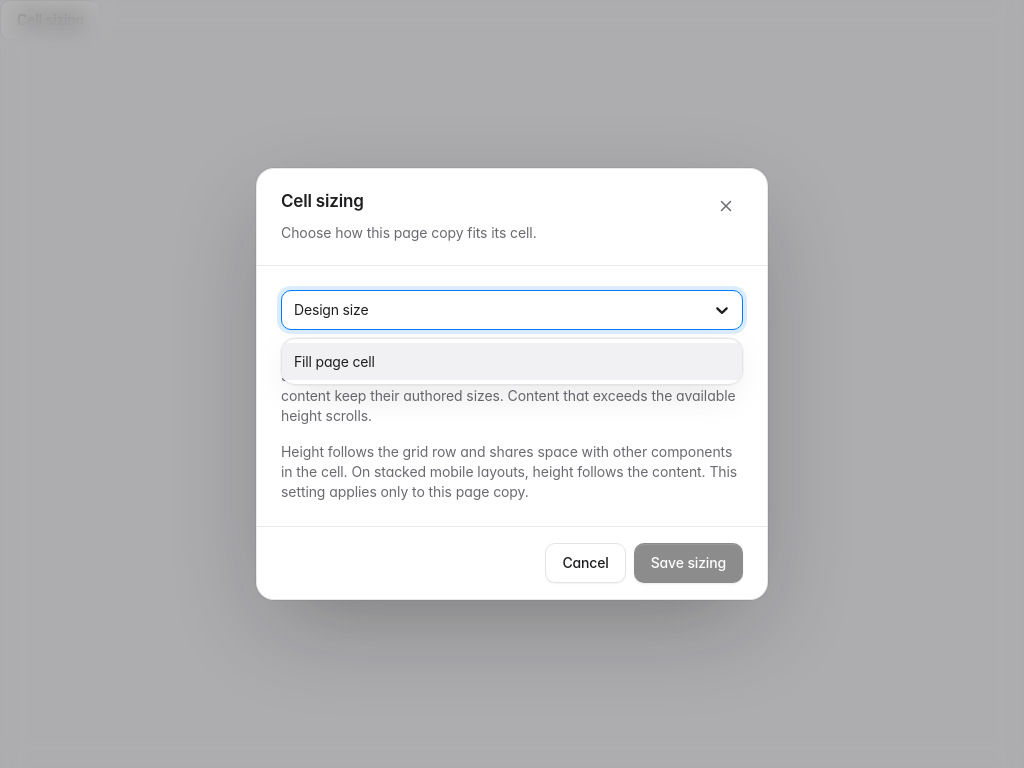
Test: saves fill per placement and discards cancelled drafts
Earlier steps of the test are not shown.
Click the option "Fill page cell".
click(334, 361)  # box [282,343,742,380]
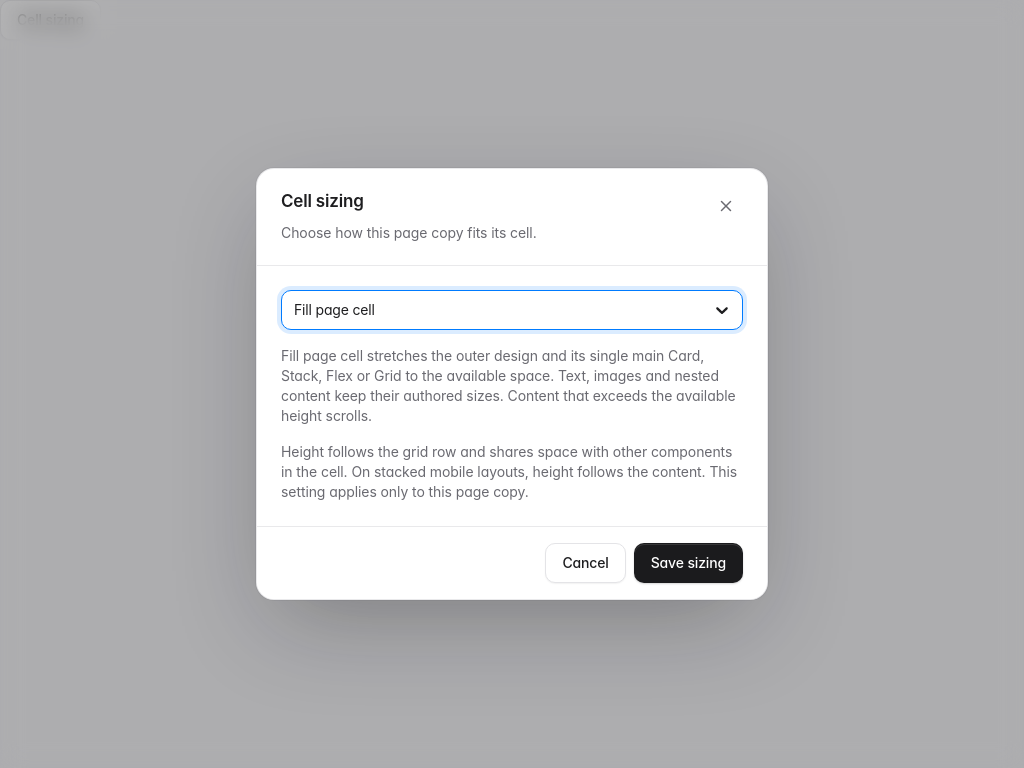
Click the button "Cancel".
click(586, 563)  # box [546,543,626,583]
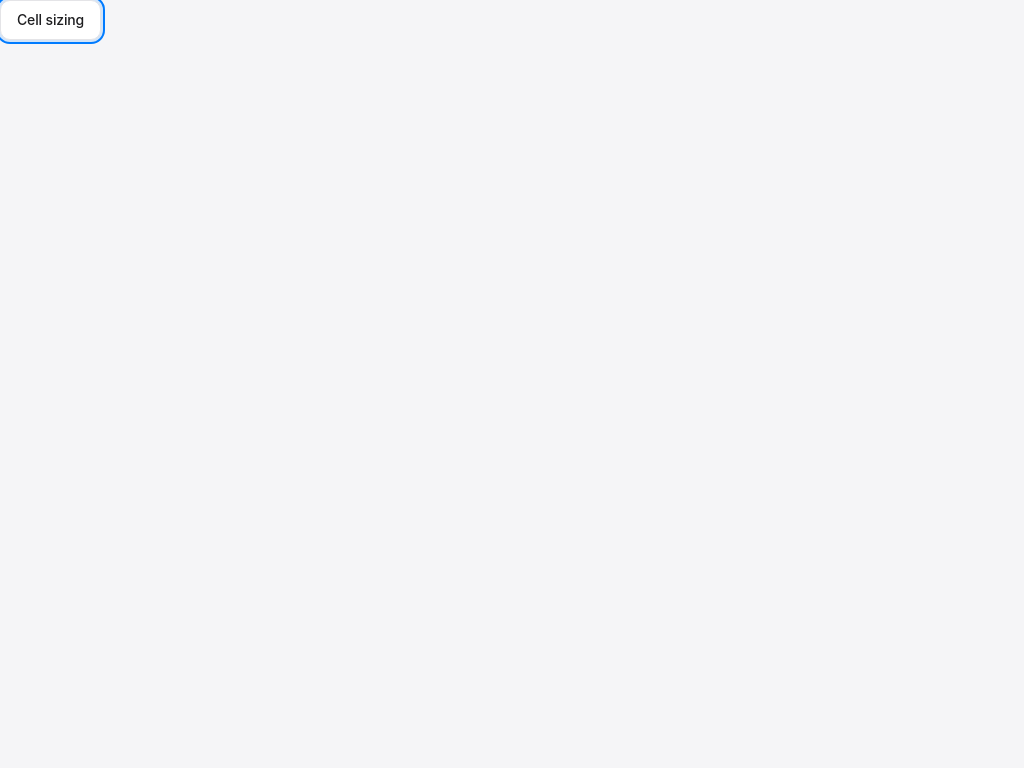
Click the button "Cell sizing".
click(51, 20)  # box [0,0,101,40]
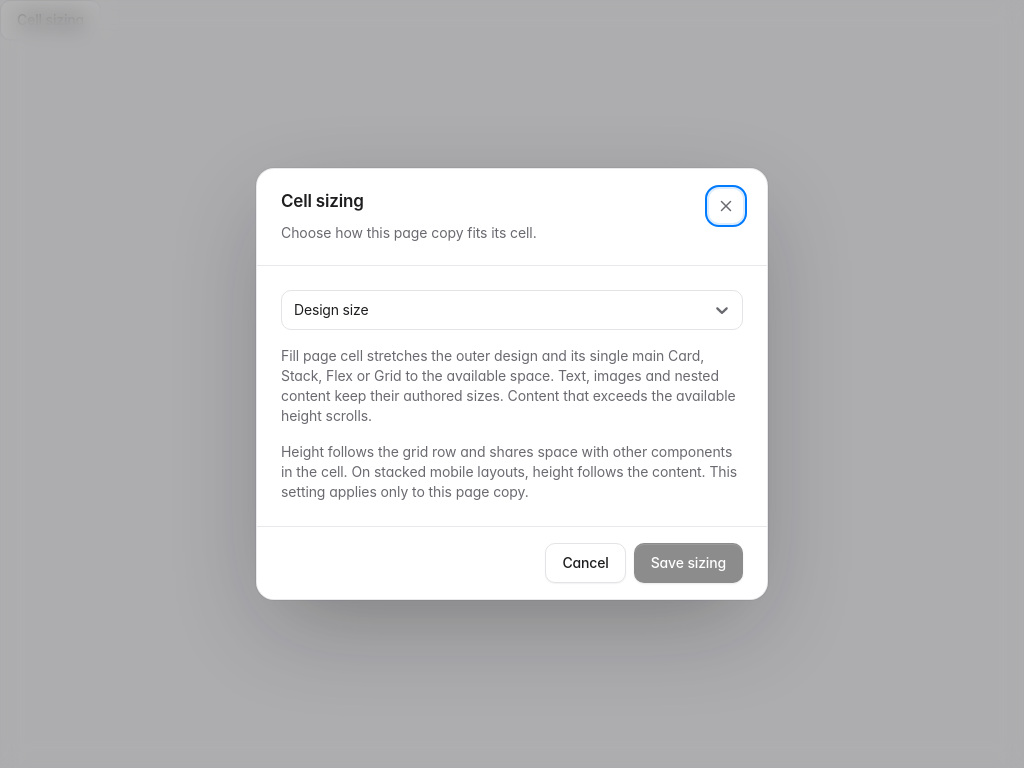
Check: the text "Design size" is shown, box [294,301,368,318]
Click the dropdown named "Visual component size".
click(296, 310)  # box [294,300,298,320]
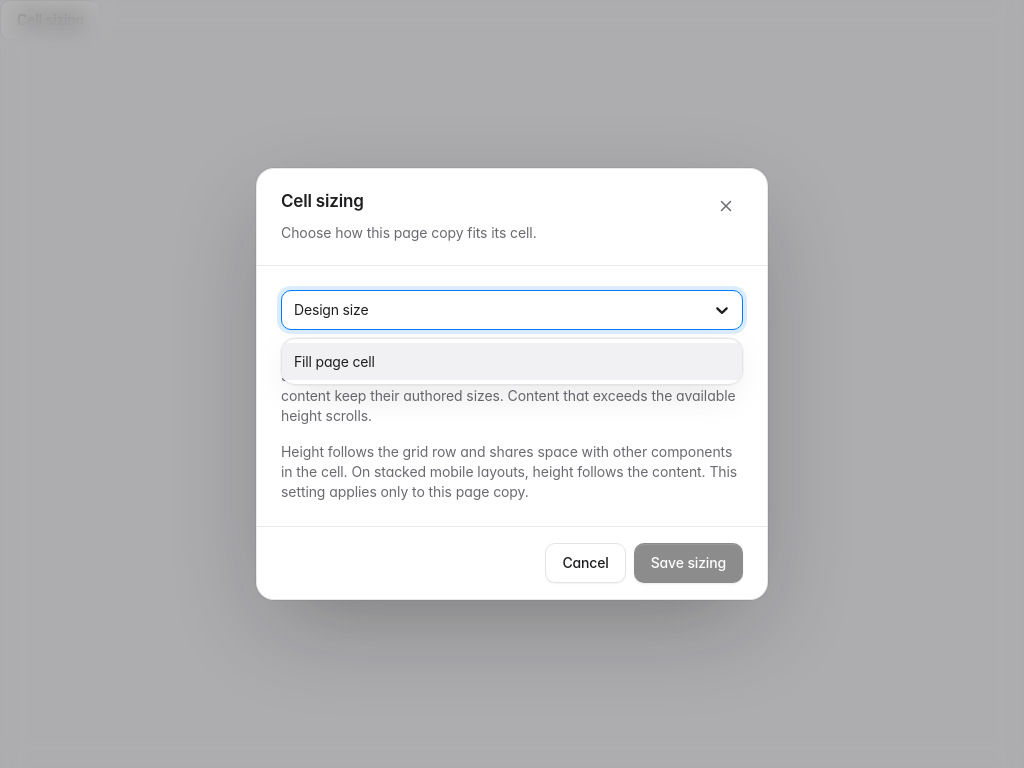
Click the option "Fill page cell".
click(334, 361)  # box [282,343,742,380]
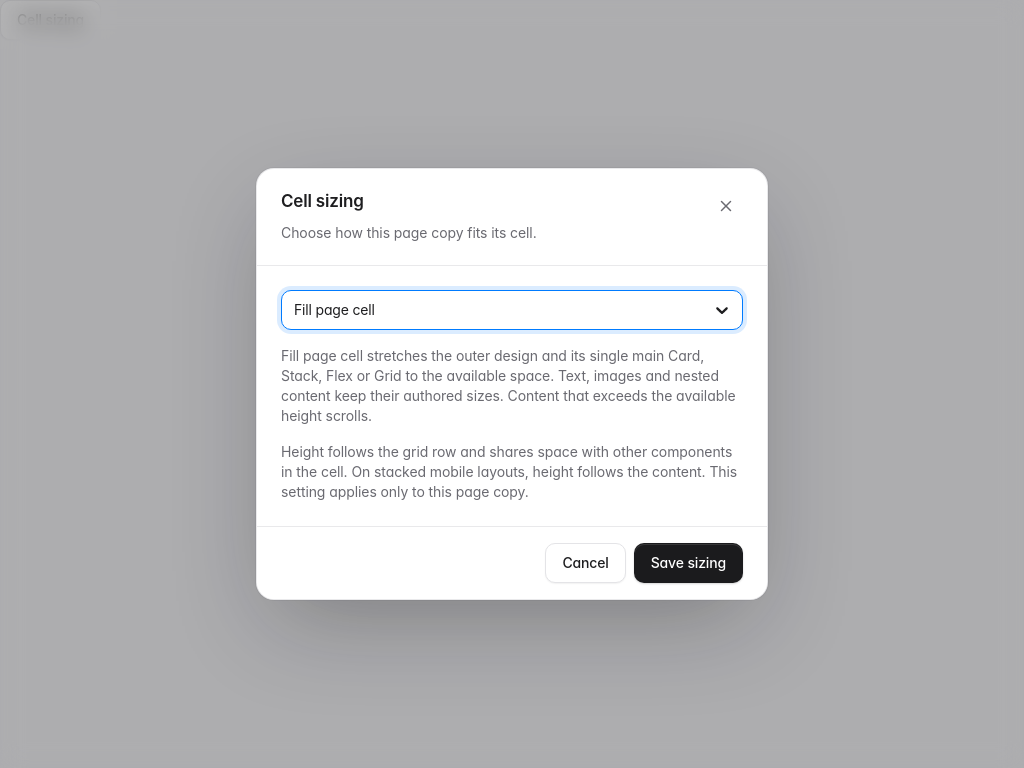
Click the button "Save sizing".
click(688, 563)  # box [634,543,743,583]
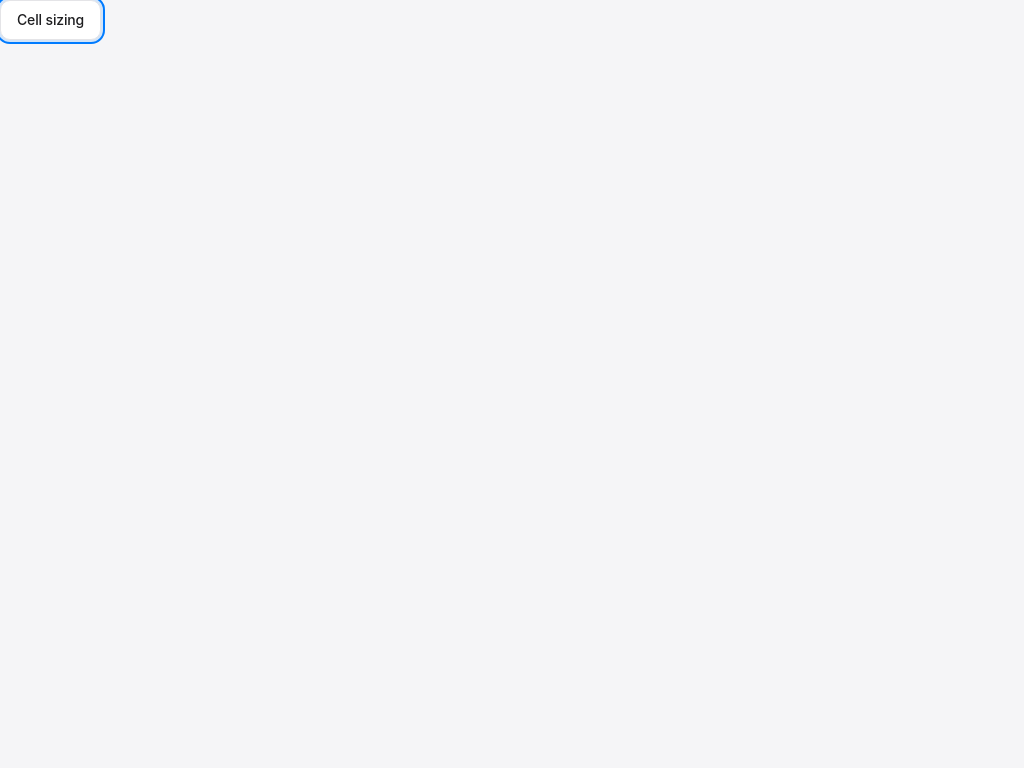
Check: the dialog is gone
